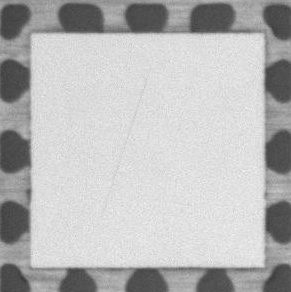DIE_CRACK: (101, 68, 149, 218)
